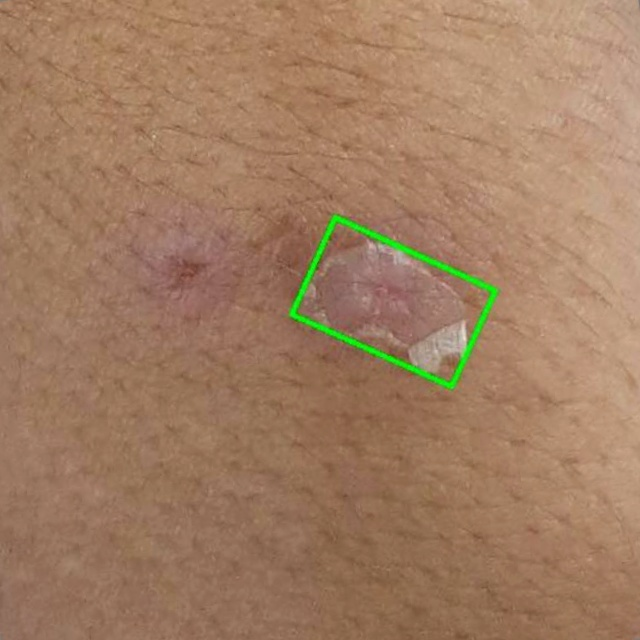Scabies: (291, 217, 496, 387)
